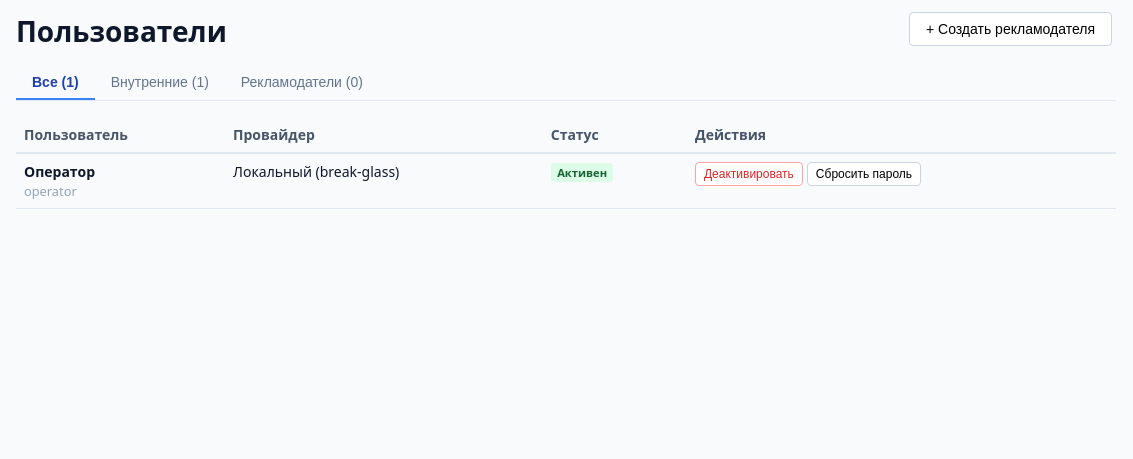
Test: UsersPage — reset password › shows error result when reset fails
Click the button with test id "user-reset-password-open-u2": [864, 174] box [807, 162, 921, 186]
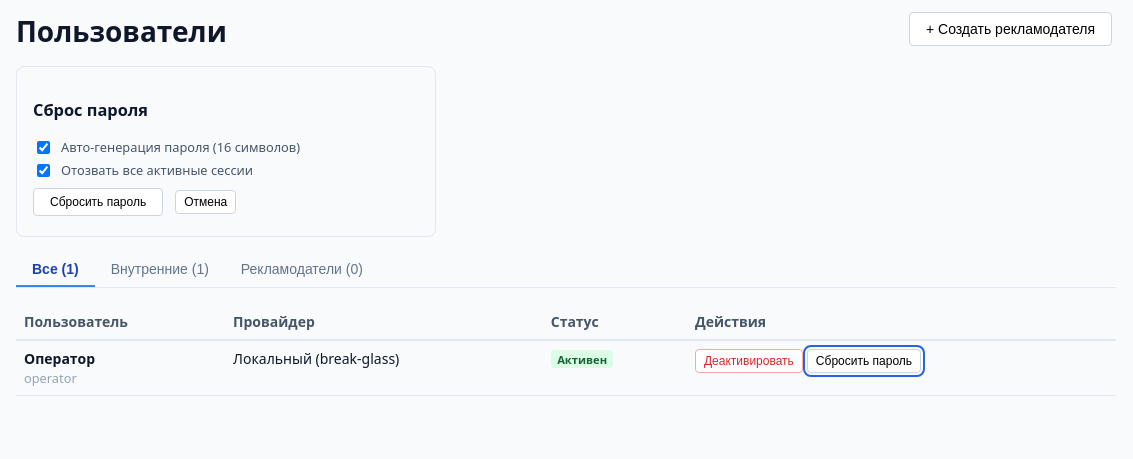
Click the button with test id "user-reset-password-confirm": [98, 202] box [33, 188, 163, 216]
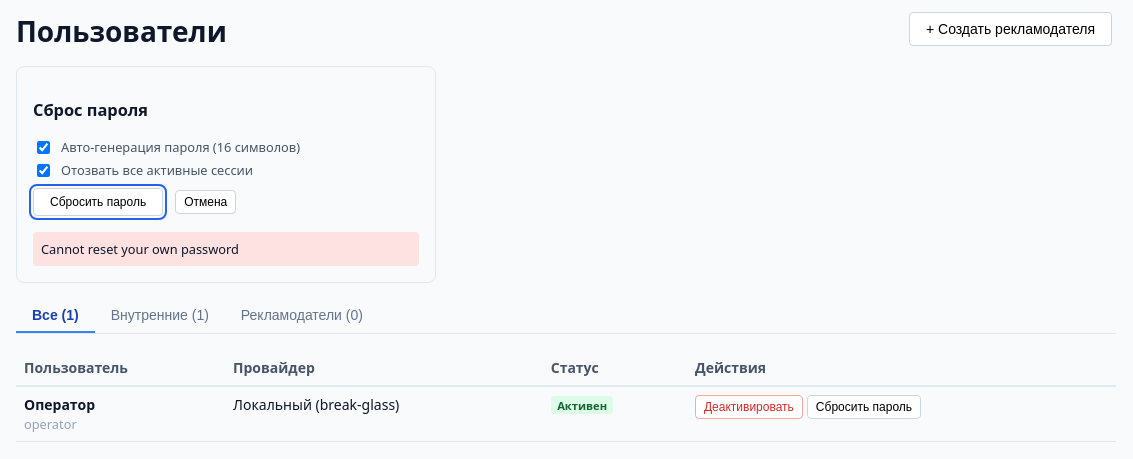
Expected: the text "Cannot reset your own password" is shown, [33, 232, 419, 266]
